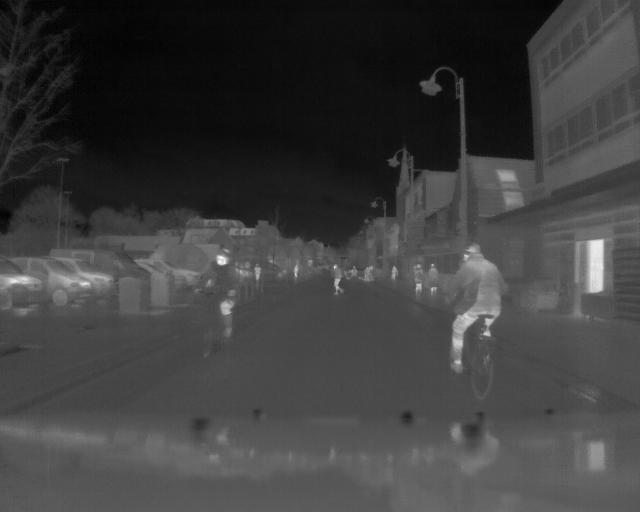car: (1, 256, 48, 316), (46, 251, 93, 309)
person: (447, 242, 509, 377), (198, 248, 237, 341), (326, 263, 347, 296), (426, 260, 440, 298), (412, 262, 424, 298), (254, 262, 264, 287), (390, 265, 399, 282)
